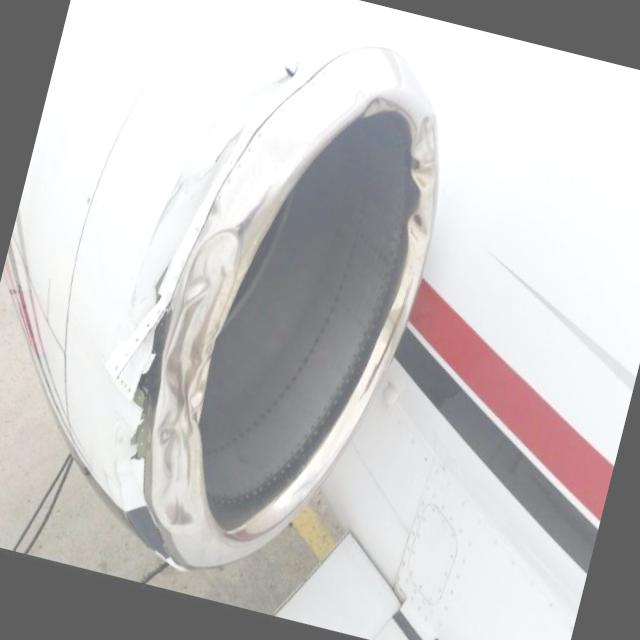dent: (138, 218, 250, 486), (284, 65, 363, 133), (402, 107, 454, 193), (161, 484, 203, 528), (396, 205, 436, 244)
